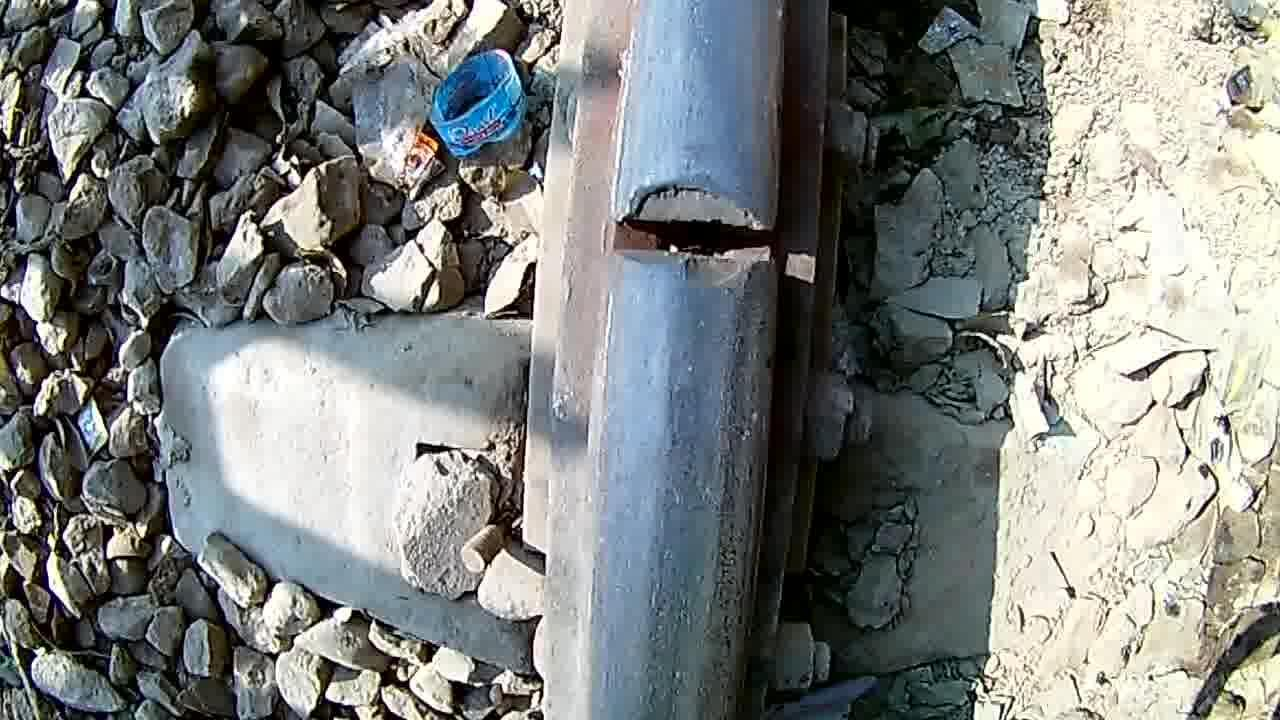crack: (587, 126, 824, 352)
